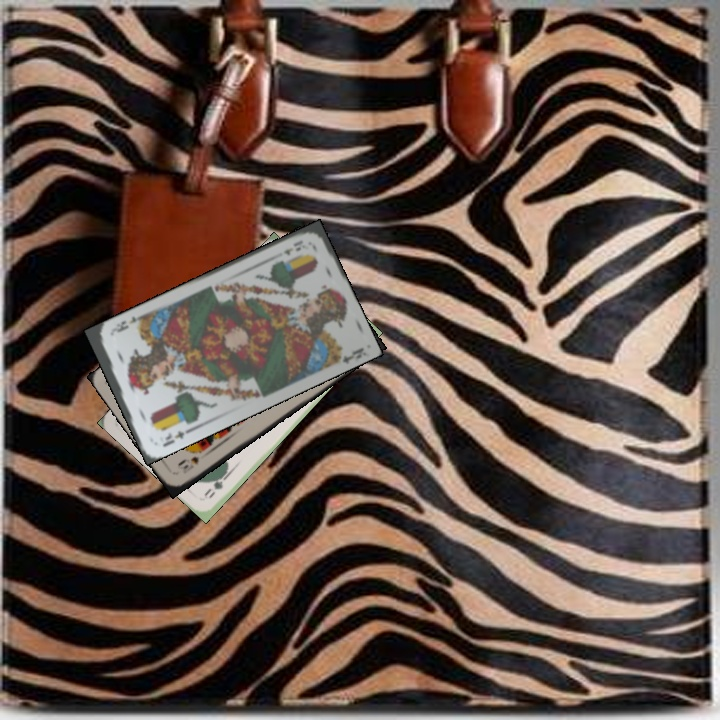EK: (158, 425, 193, 449), (279, 236, 305, 258)
GO: (205, 467, 233, 501)
S10: (178, 452, 202, 477)
